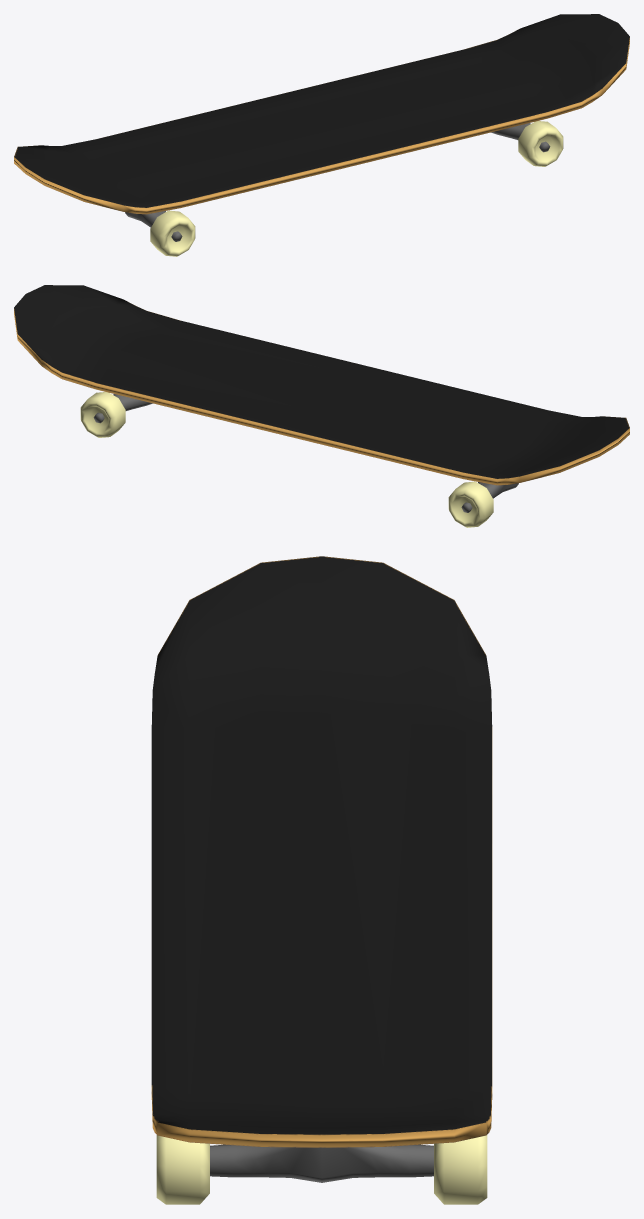
The model's file is SkateBoard_InGame.fbx.
3 renders of one model, top to bottom at view 1: azimuth 30°, elevation 25°; view 2: azimuth 150°, elevation 25°; view 3: azimuth 270°, elevation 25°, orthographic. The views are drawn at different scales.
Visible parts, largest first — view 1: SkateBoard1; view 2: SkateBoard1; view 3: SkateBoard1.
Boxes of the visible parts, <box> form: SkateBoard1: <box>14,14,629,256</box>; SkateBoard1: <box>14,285,629,527</box>; SkateBoard1: <box>151,556,492,1204</box>.
Size of the model in its own units: 88.06 by 12.52 by 21.9.
Materials: 1 (1 with a texture image).
